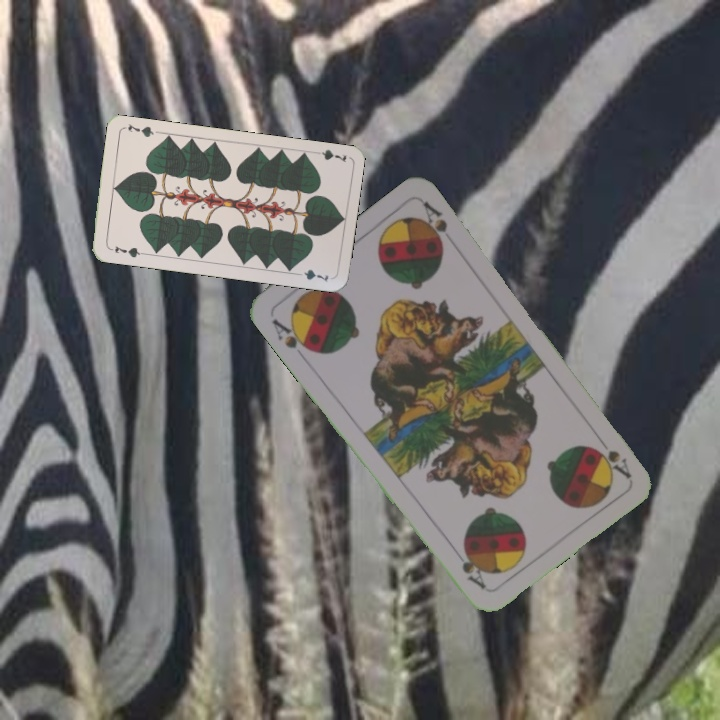G7: (308, 145, 349, 165), (105, 242, 146, 260)
SA: (590, 430, 634, 481), (268, 314, 317, 355)
